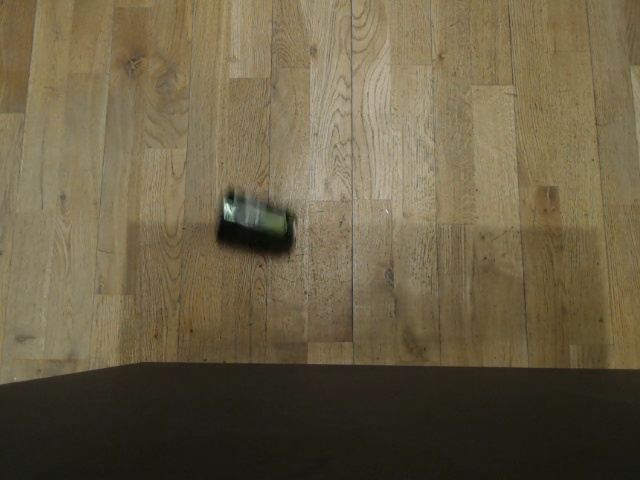beer: (213, 190, 303, 266)
